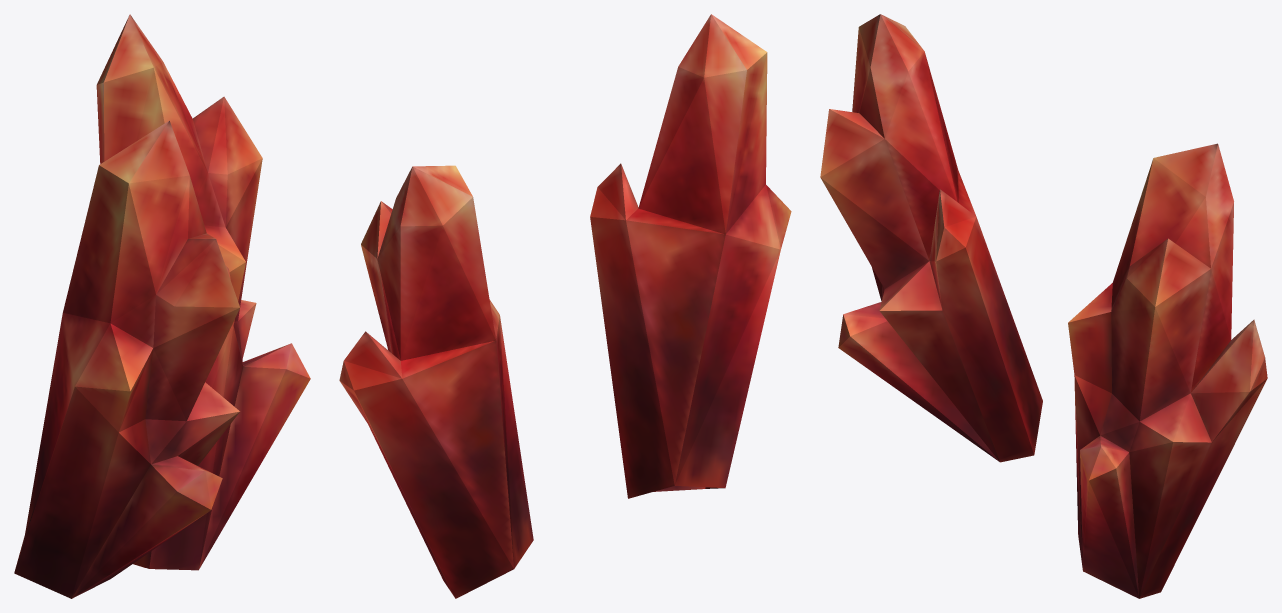
The model's file is shuijing_02.FBX.
3 views of the same model, side by side, from view 1: azimuth 30°, elevation 25°; view 2: azimuth 150°, elevation 25°; view 3: azimuth 270°, elevation 25° (orthographic). The views are drawn at different scales.
Visible parts, largest first — view 1: shuijing_02; view 2: shuijing_02; view 3: shuijing_02.
Boxes of the visible parts, x1=… form: shuijing_02: x1=14, y1=14, x2=310, y2=598; shuijing_02: x1=339, y1=14, x2=791, y2=598; shuijing_02: x1=820, y1=14, x2=1267, y2=598.
Size of the model in its own units: 2.7 by 4.42 by 3.45.
